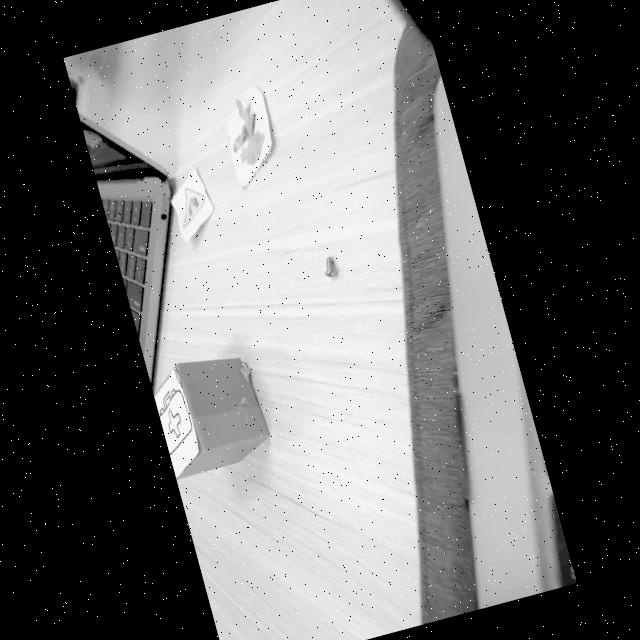Medkit: (158, 386, 192, 458)
